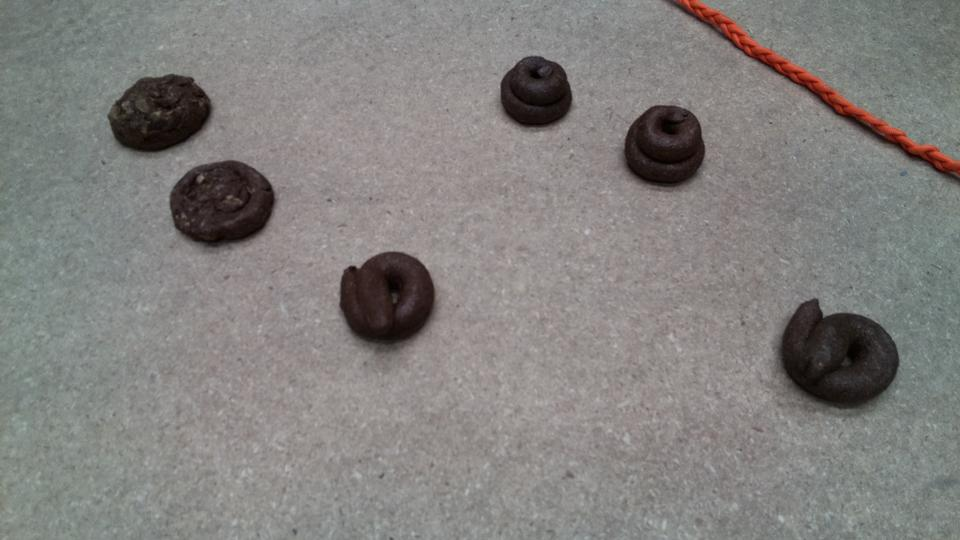poop: (777, 295, 902, 413), (166, 157, 280, 249), (337, 249, 440, 348), (102, 70, 216, 155), (622, 102, 710, 191), (497, 51, 576, 132)
rope: (681, 1, 960, 161)
